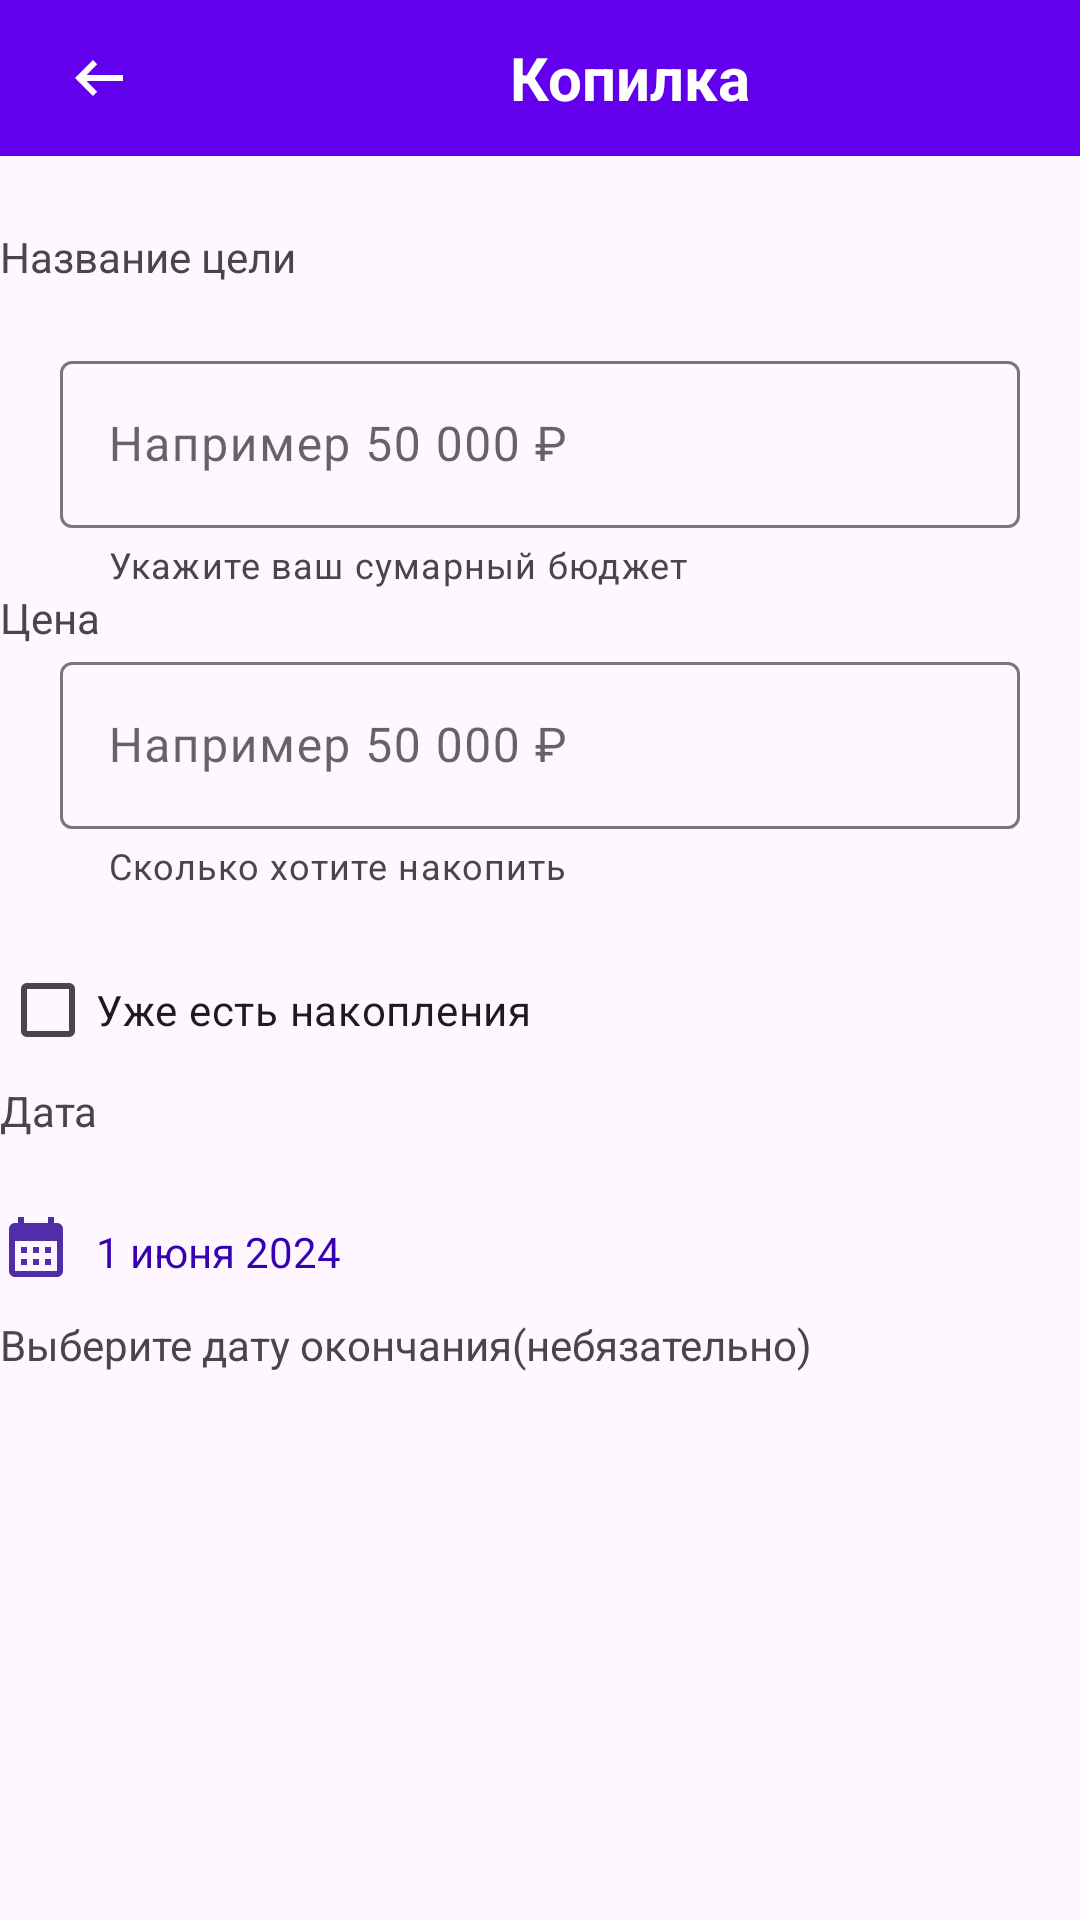

Point at icon controls on the screen. Image size 1080 × 1920, points as [x,y].
calendar month: [36,1247]
left: [99,78]
